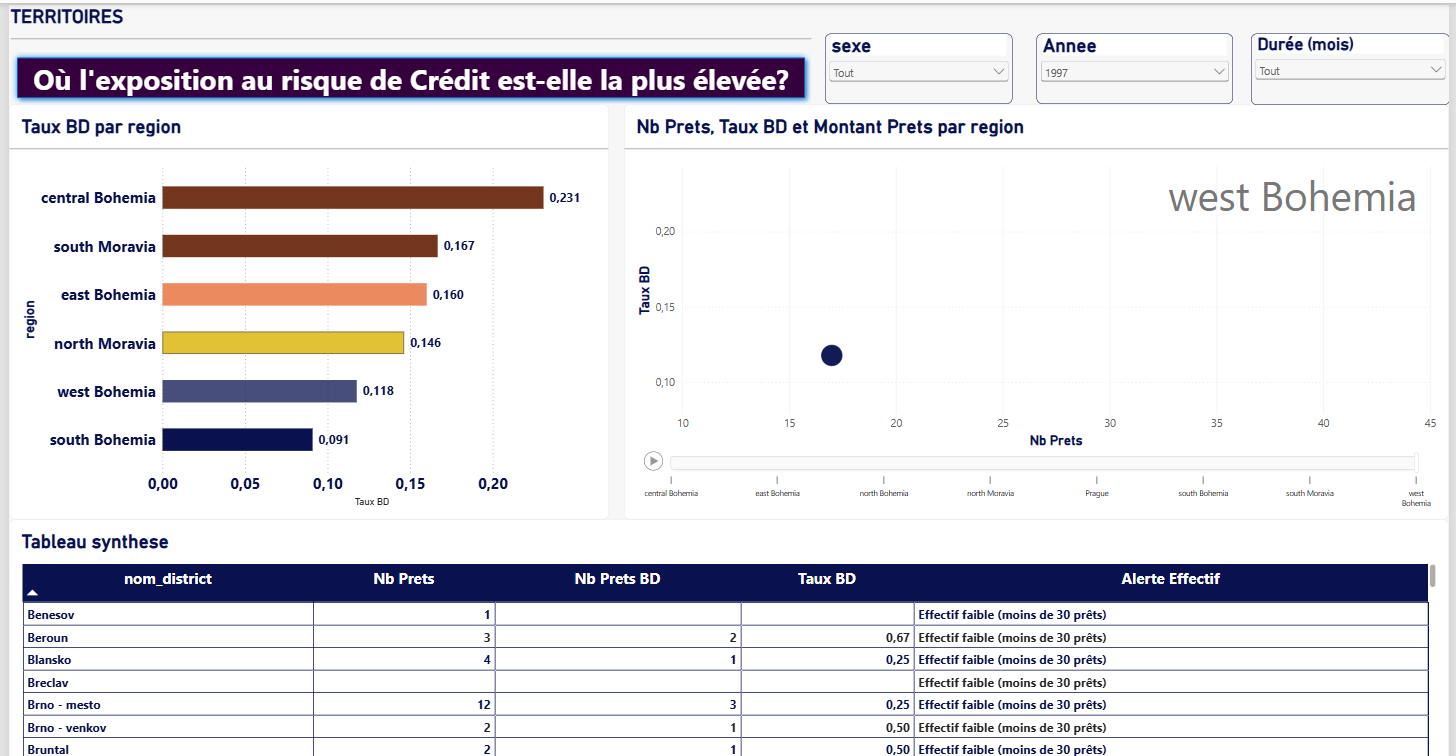

The dashboard page shown, as its layout file describes it:
{"tool":"powerbi","page":{"name":"Territoires","canvas":[1920,1080],"ordinal":2},"visuals":[{"type":"scatterChart","fields":{"X":["Table_Mesures (3).Nb Prets"],"Y":["Table_Mesures (3).Taux BD"],"Size":["Table_Mesures (3).Montant Prets"],"Play":["DimDistrict.region"]},"box":[820,132,1100,554],"z":0},{"type":"slicer","fields":{"Values":["Prets.sexe_titulaire"]},"box":[1088,38,250,94],"z":1000},{"type":"slicer","fields":{"Values":["DimCalendrier.Annee"]},"box":[1370,37.5,262,94],"z":2000},{"type":"slicer","fields":{"Values":["Prets.duree_mois"]},"box":[1655,37.5,265,95],"z":3000},{"type":"barChart","fields":{"Y":["Table_Mesures (3).Taux BD"],"Category":["DimDistrict.region"]},"box":[0,132,800,554],"z":4000},{"type":"tableEx","title":"Tableau synthese ","fields":{"Values":["DimDistrict.nom_district","Table_Mesures (3).Nb Prets","Table_Mesures (3).Nb Prets BD","Table_Mesures (3).Taux BD","Table_Mesures (3).Alerte Effectif"]},"box":[0,686,1920,394],"z":5000},{"type":"shape","title":"TERRITOIRES","box":[2,0,1068,132],"z":5001}]}

Visuals, with their boxes on the page's 1920x1080 design canvas (x1, y1, x2, y2). These are canvas units, not pixel positions in the 1456x756 screenshot, which may show the page scaled, cropped or inside an application window:
scatterChart - Table_Mesures (3).Nb Prets x Table_Mesures (3).Taux BD: x1=820, y1=132, x2=1920, y2=686
slicer - Prets.sexe_titulaire: x1=1088, y1=38, x2=1338, y2=132
slicer - DimCalendrier.Annee: x1=1370, y1=38, x2=1632, y2=132
slicer - Prets.duree_mois: x1=1655, y1=38, x2=1920, y2=132
barChart - Table_Mesures (3).Taux BD x DimDistrict.region: x1=0, y1=132, x2=800, y2=686
"Tableau synthese " tableEx: x1=0, y1=686, x2=1920, y2=1080
"TERRITOIRES" shape: x1=2, y1=0, x2=1070, y2=132
